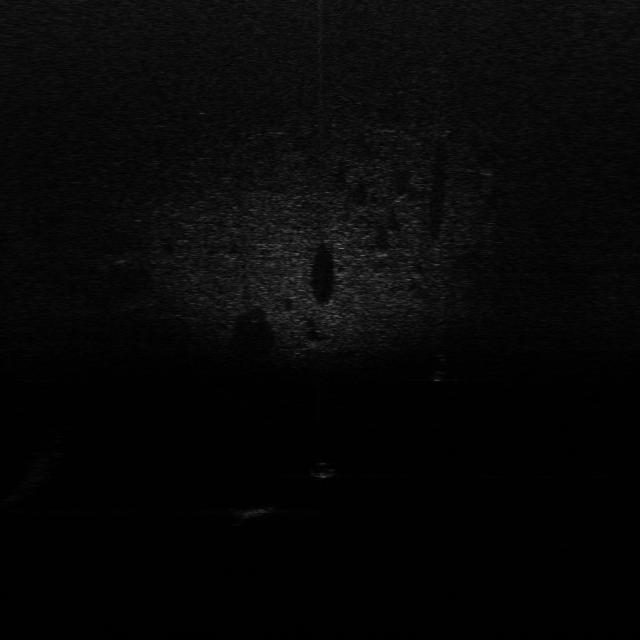ball: (310, 460, 336, 480)
square cage: (227, 500, 277, 520)
tyre: (427, 348, 454, 384)
